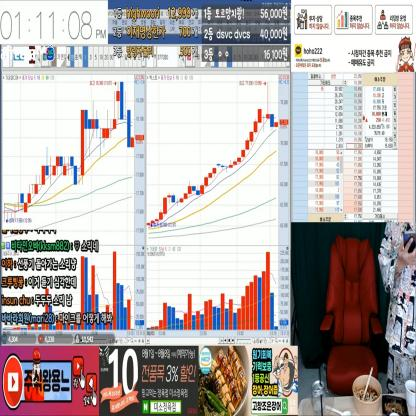streamer: (378, 223, 416, 394)
